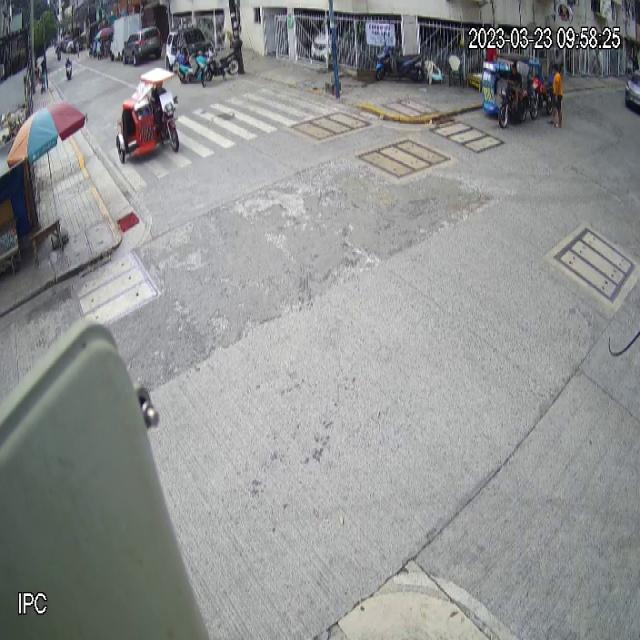Tricycle: (118, 65, 180, 164)
